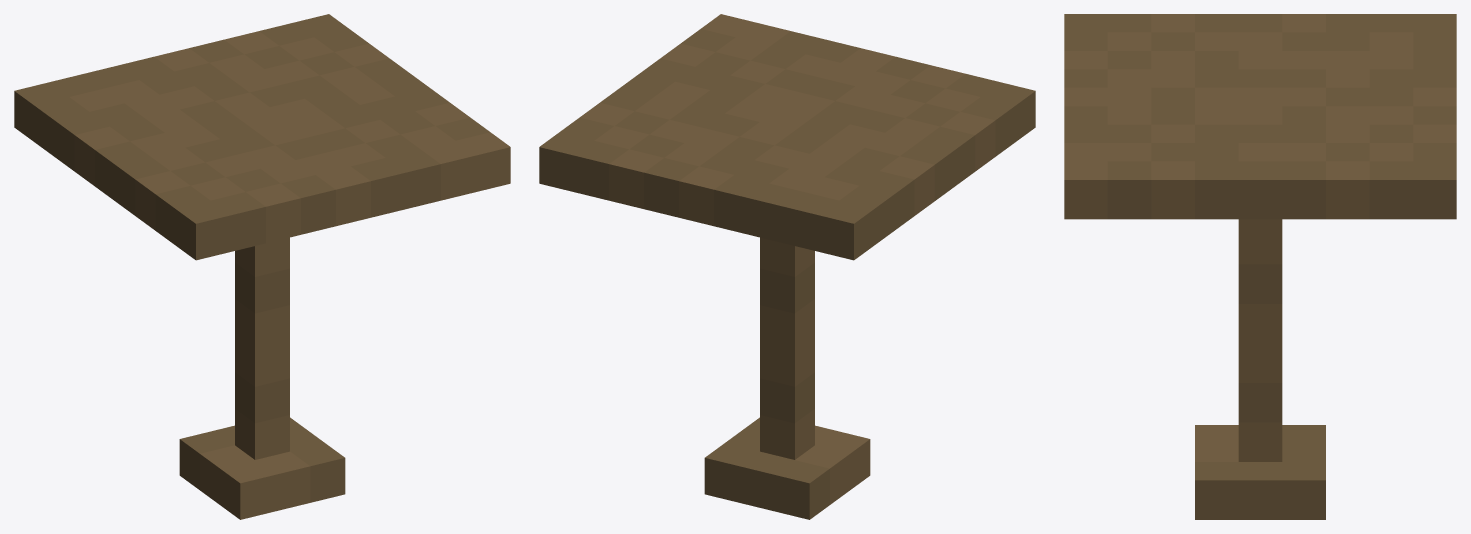
File: Decor-87.obj
3 views of the same model, side by side, from view 1: azimuth 30°, elevation 25°; view 2: azimuth 150°, elevation 25°; view 3: azimuth 270°, elevation 25° (orthographic). The views are drawn at different scales.
Size of the model in its own units: 0.9 by 1 by 0.9.
Materials: 1 (1 with a texture image).
